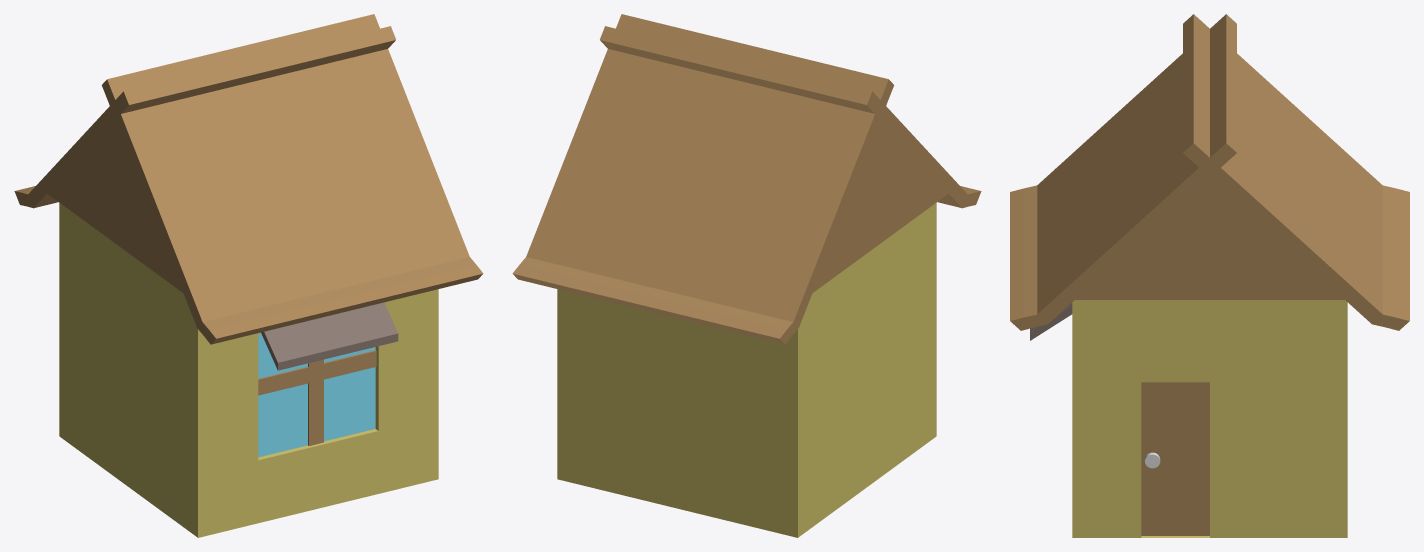
The model's file is casa vila amarela.fbx.
3 views of the same model, side by side, from view 1: azimuth 30°, elevation 25°; view 2: azimuth 150°, elevation 25°; view 3: azimuth 270°, elevation 25° (orthographic).
Parts seen in each view (by area): view 1: Cube.001, Cube, Cube.002, Cube.005, Cube.003; view 2: Cube.001, Cube; view 3: Cube.001, Cube, Cube.004.
Part boxes in pixels (<box>): Cube.001: <box>14,14,483,344</box>; Cube: <box>59,203,438,537</box>; Cube.002: <box>258,333,375,457</box>; Cube.005: <box>261,302,398,370</box>; Cube.003: <box>258,350,376,445</box>; Cube.001: <box>512,14,981,344</box>; Cube: <box>557,203,936,537</box>; Cube.001: <box>1010,14,1409,330</box>; Cube: <box>1072,300,1347,537</box>; Cube.004: <box>1141,382,1209,535</box>.
Bounding box in the file's own units: 200 × 290 × 262.
